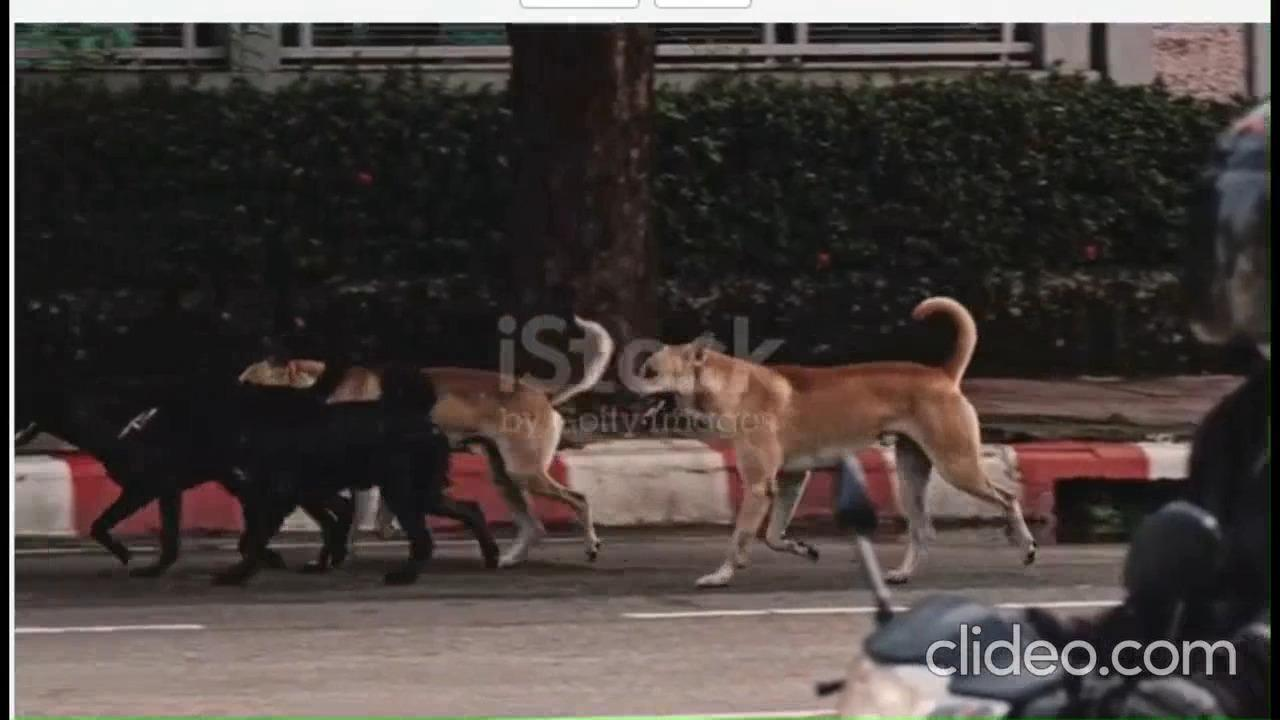dog: (624, 295, 1030, 575), (93, 351, 497, 589), (233, 345, 627, 569)
